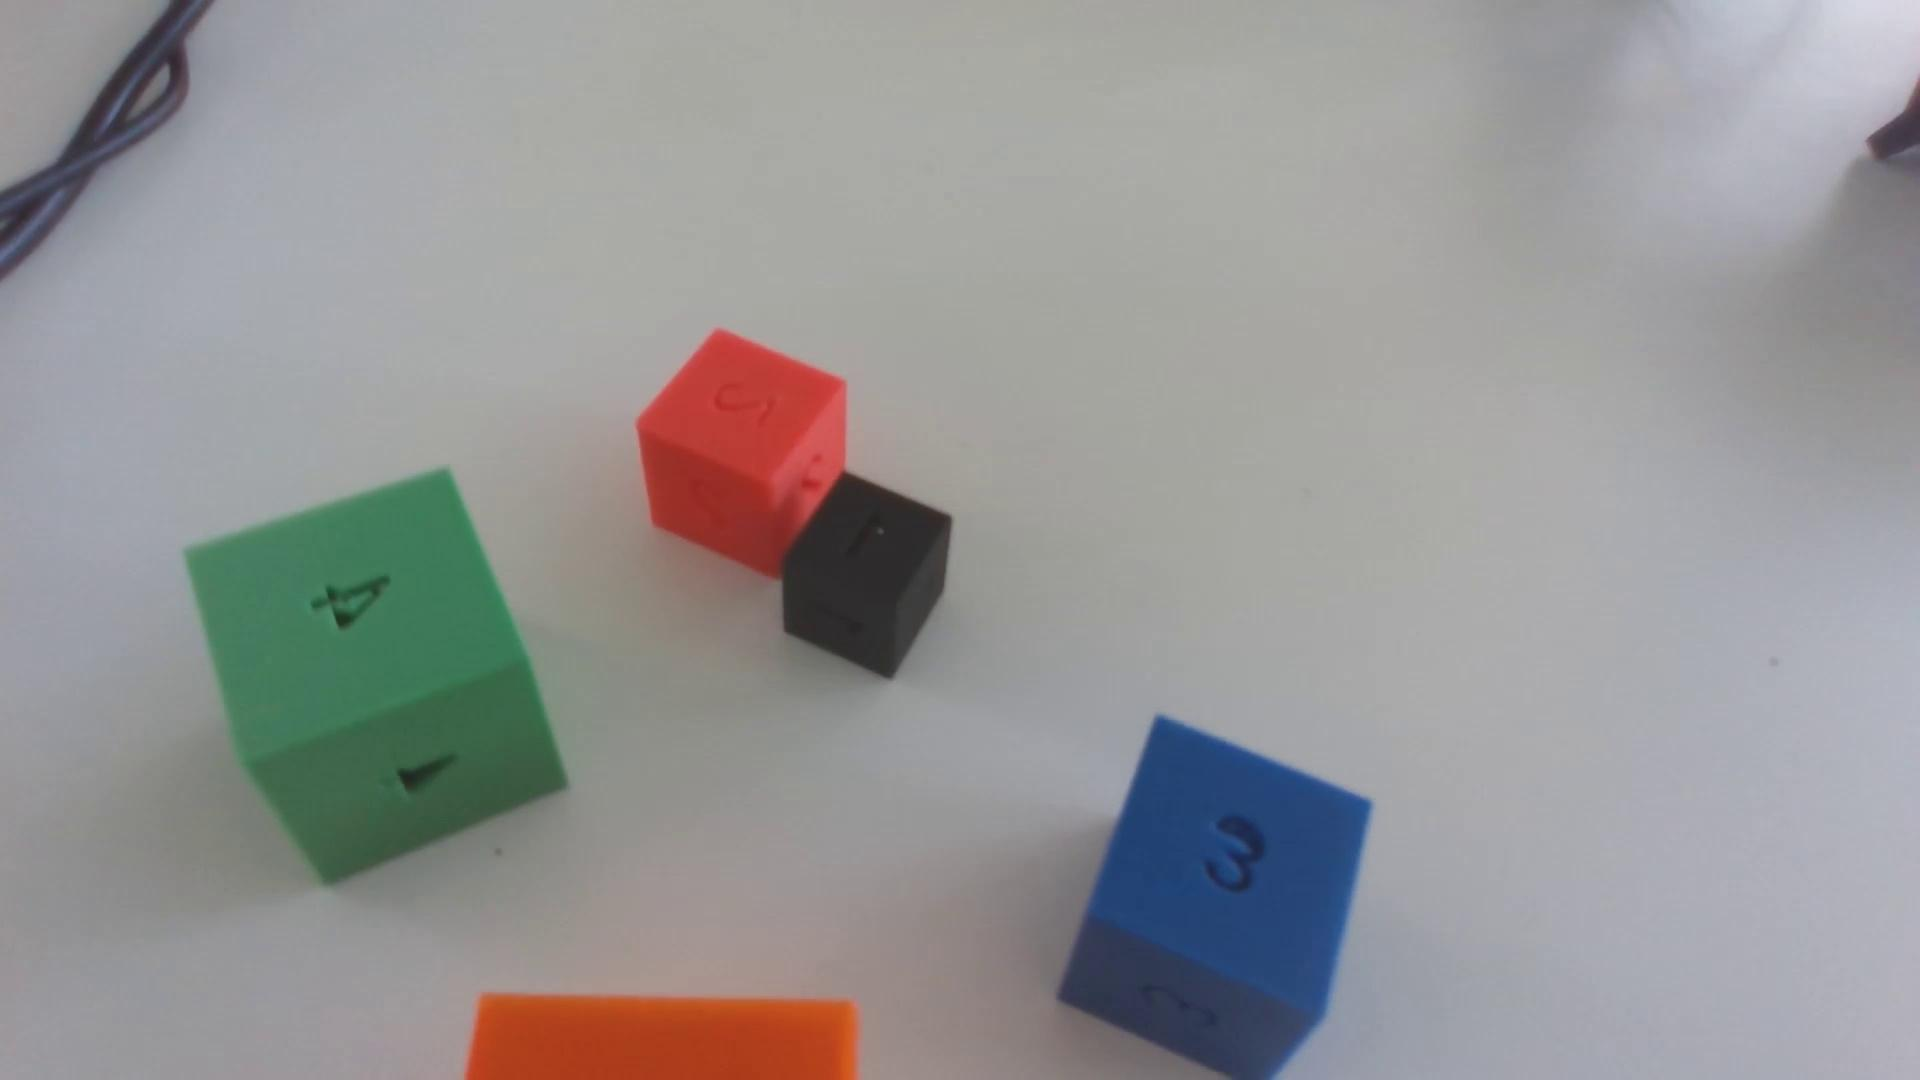black: (782, 473, 953, 679)
blue: (1059, 717, 1371, 1080)
green: (186, 469, 566, 884)
orange: (465, 994, 858, 1080)
red: (637, 331, 847, 578)
